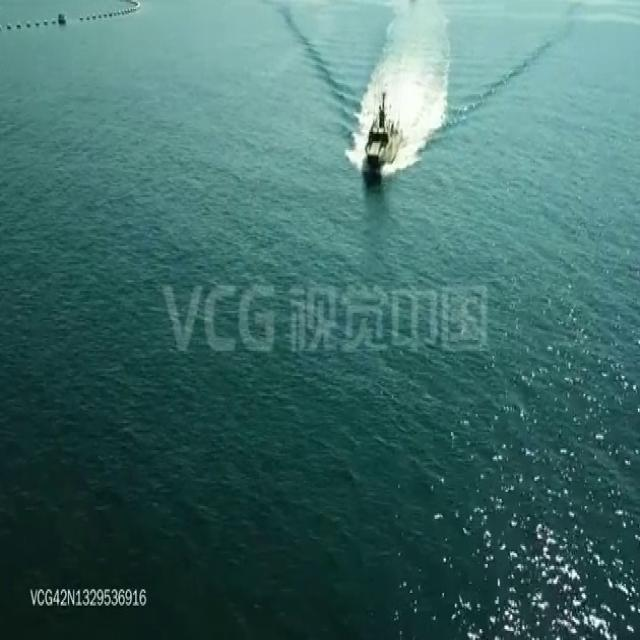houseboat: (357, 84, 404, 178)
